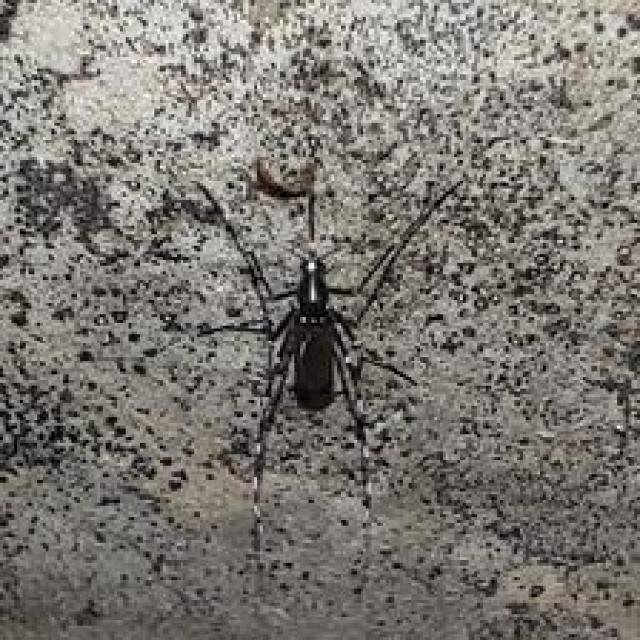Aedes albopictus: (160, 147, 471, 562)
